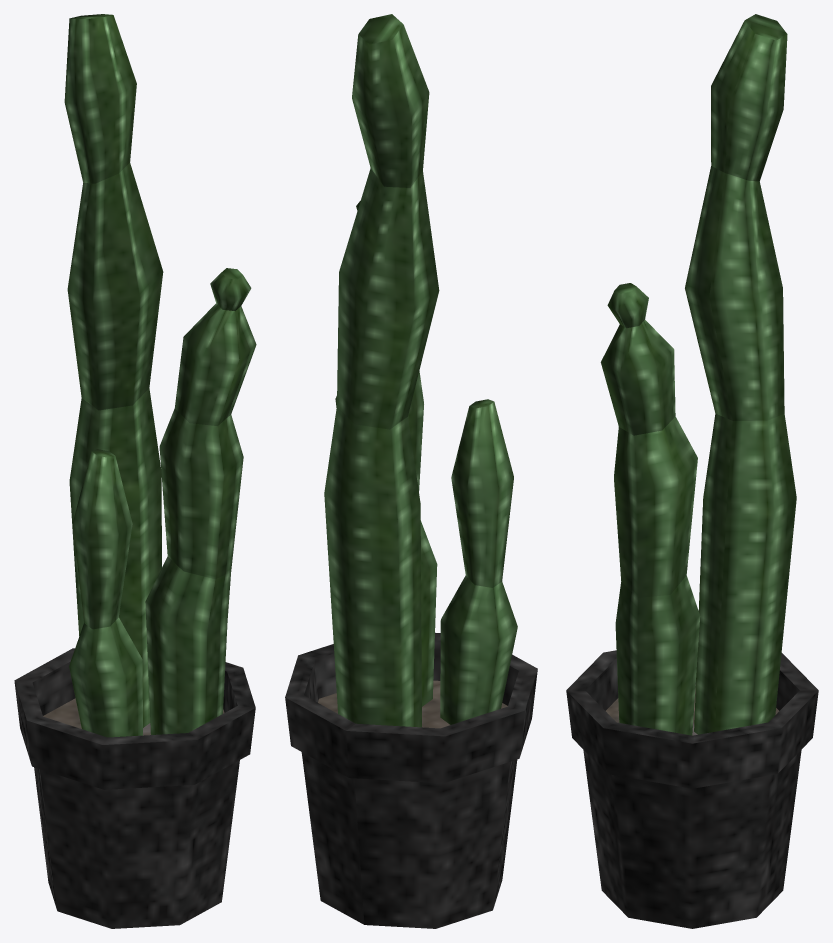
Rendered from plant_02.fbx.
3 renders of one model, left to right at view 1: azimuth 30°, elevation 25°; view 2: azimuth 150°, elevation 25°; view 3: azimuth 270°, elevation 25°, orthographic. The views are drawn at different scales.
Parts seen in each view (by area): view 1: plant_02; view 2: plant_02; view 3: plant_02.
Part boxes in pixels (box(x1,y1,x2,y2)): plant_02: box(14, 14, 256, 928); plant_02: box(285, 14, 537, 928); plant_02: box(566, 14, 818, 928).
Size of the model in its own units: 39.26 by 149 by 39.26.
1 material, 1 textured.
